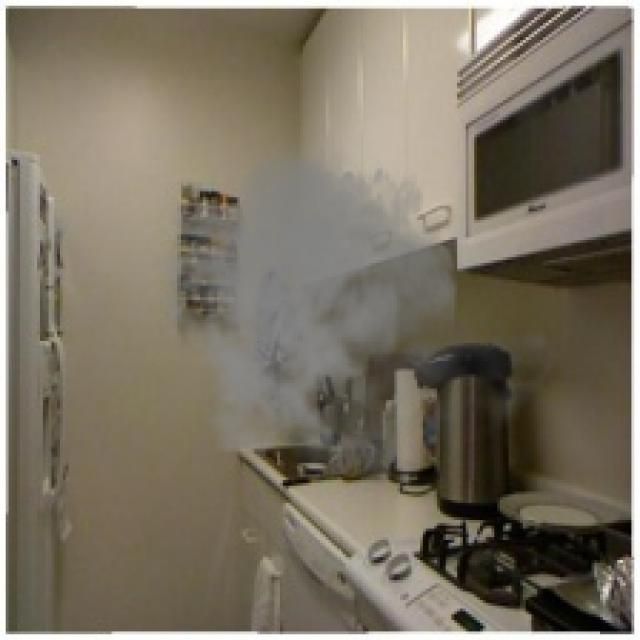smoke: (151, 129, 566, 494)
